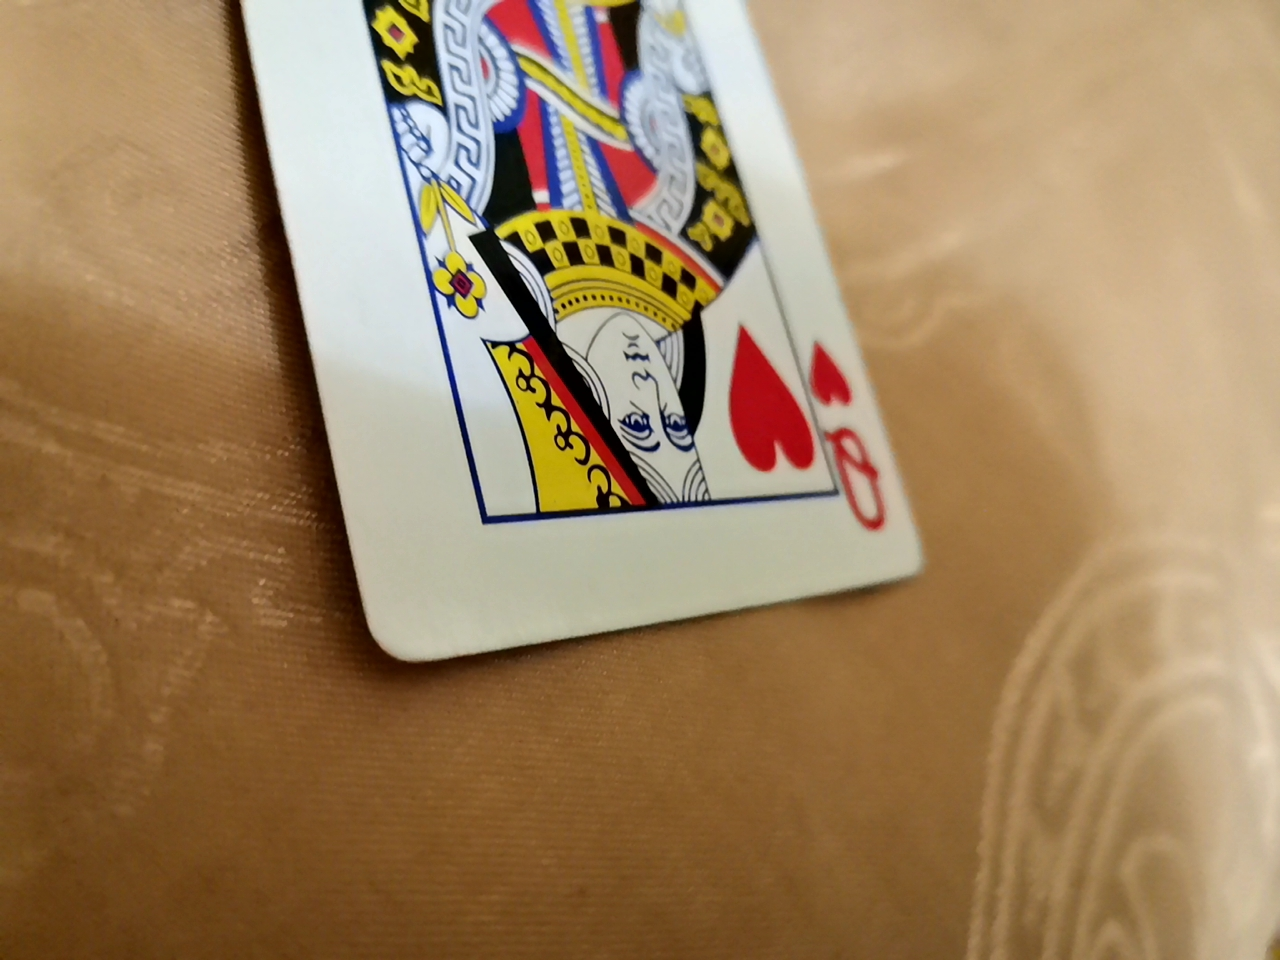hx q: (155, 8, 917, 708)
